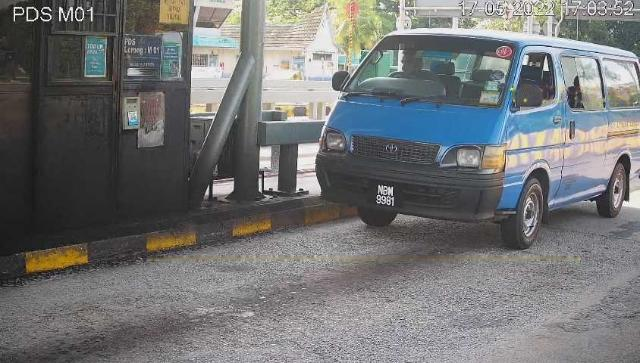License_Plate: (369, 180, 406, 211)
van: (316, 29, 640, 252)
